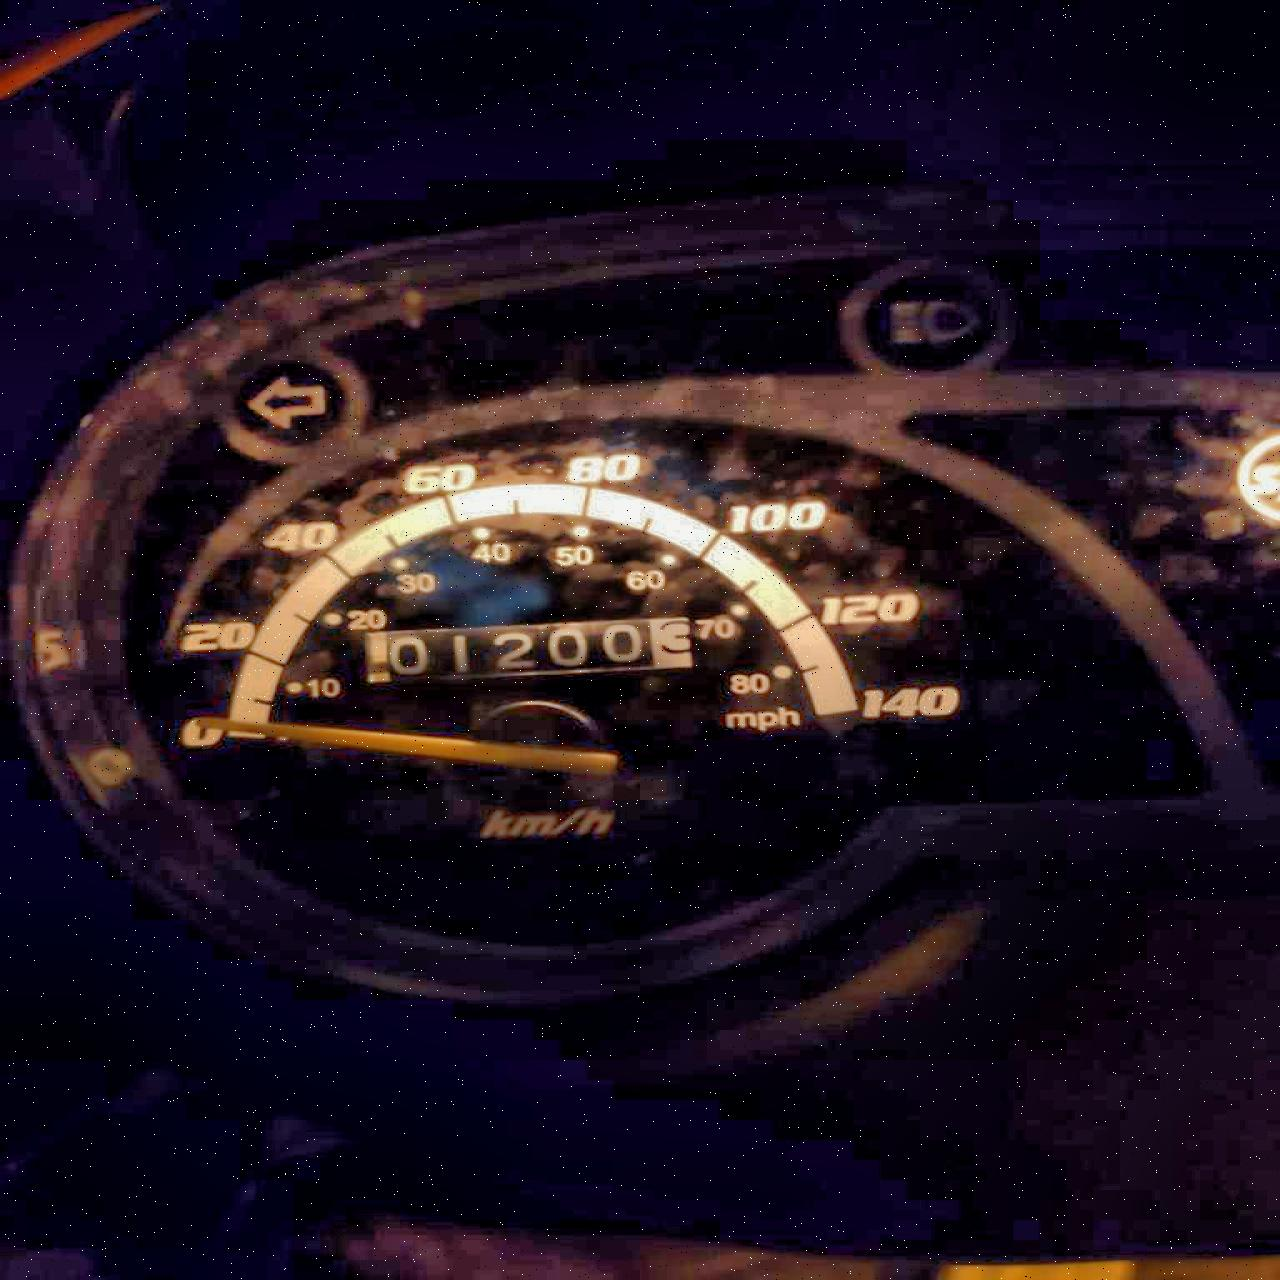0: (545, 626, 585, 666), (600, 622, 640, 661), (388, 636, 427, 675), (365, 607, 384, 627)
1: (450, 633, 468, 673)
2: (490, 632, 533, 669)
3: (659, 619, 689, 654)
odometer: (360, 615, 693, 685)
